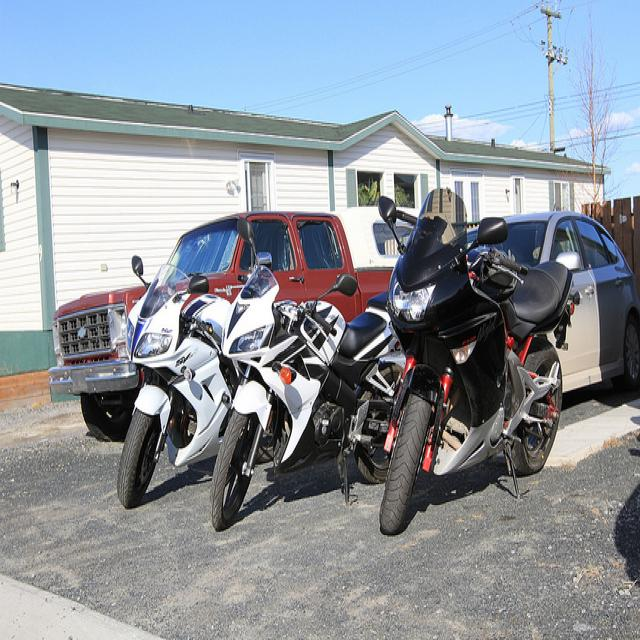motor: (373, 183, 580, 536), (211, 221, 403, 529), (116, 256, 253, 512)
